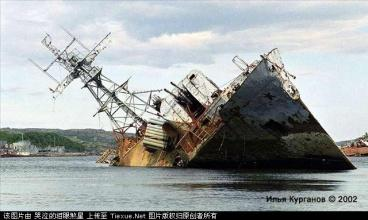otherboat: (20, 28, 350, 175)
